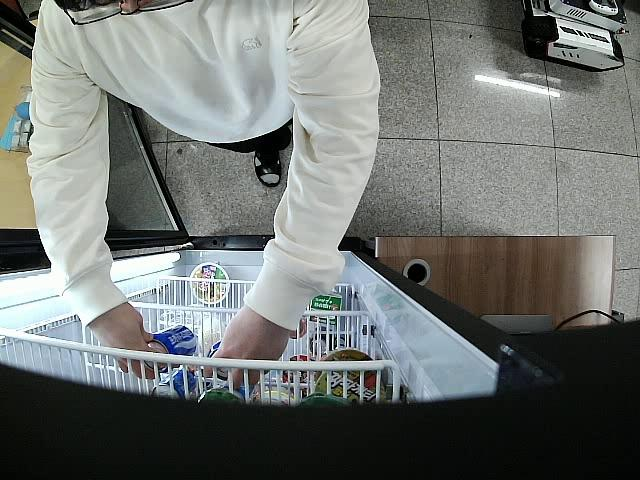00_hand: (206, 307, 290, 387), (85, 304, 158, 381)
13_pocariSweat: (149, 323, 199, 375), (207, 341, 236, 380)
